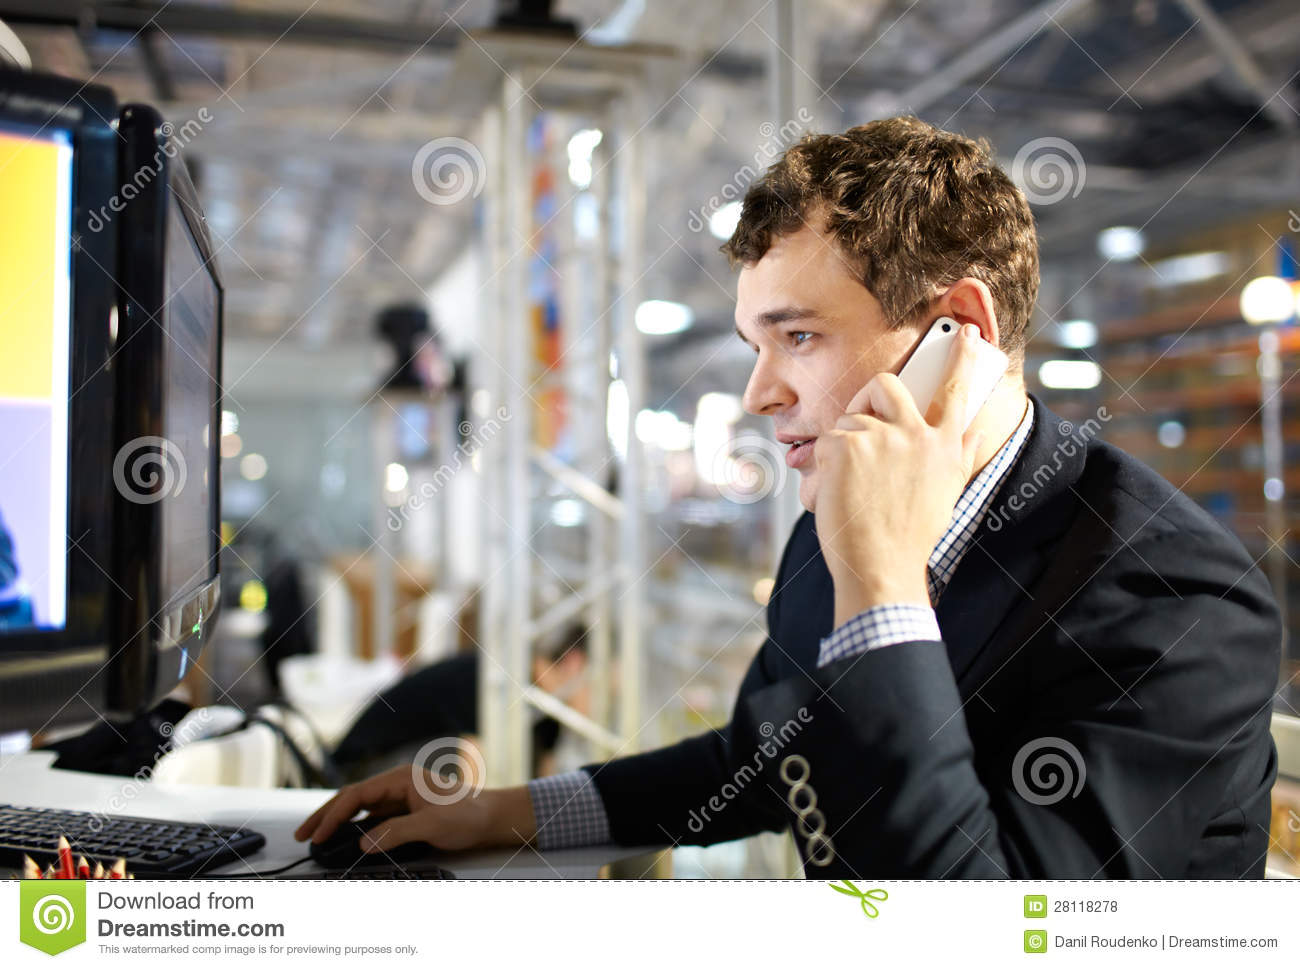phone: (904, 320, 1005, 461)
talk: (730, 297, 1007, 613)
